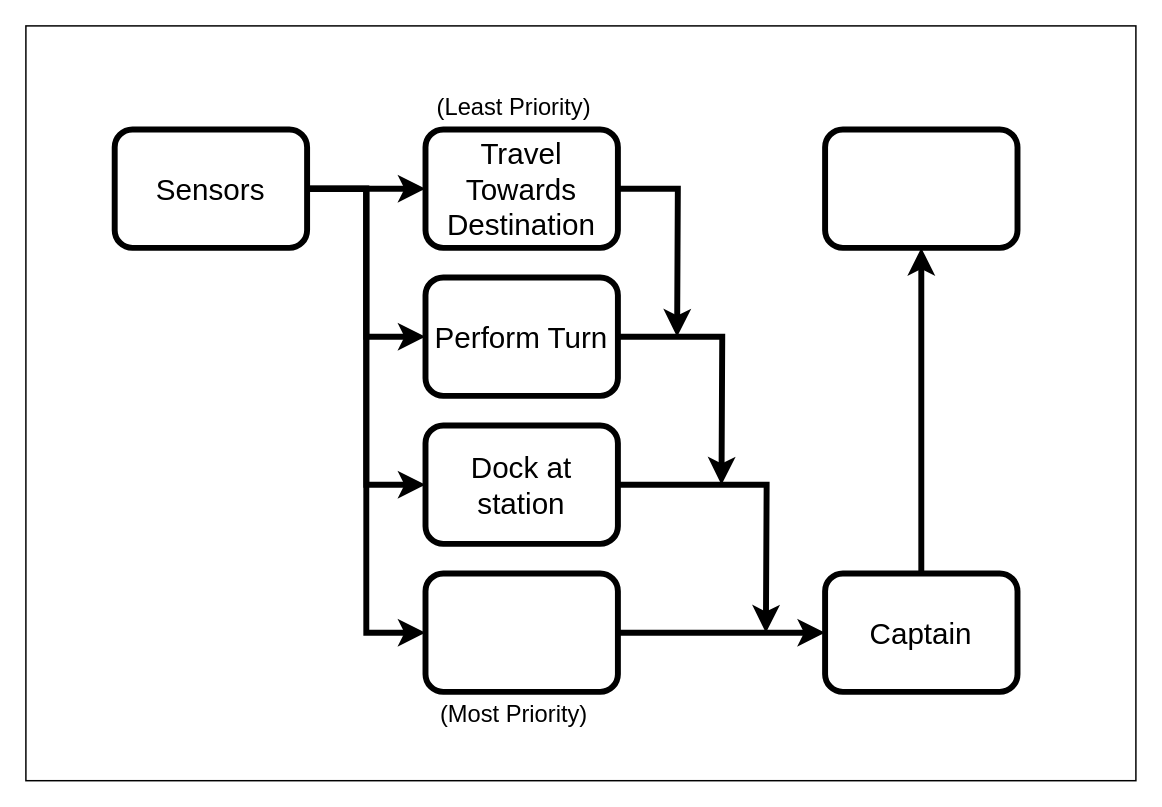
This 1162x807 diagram has some shape labels left out. Each missing label, with the centre of its shape:
"Avoid Obstacles" belongs at (x=521, y=632).
"Robot" belongs at (x=920, y=188).
